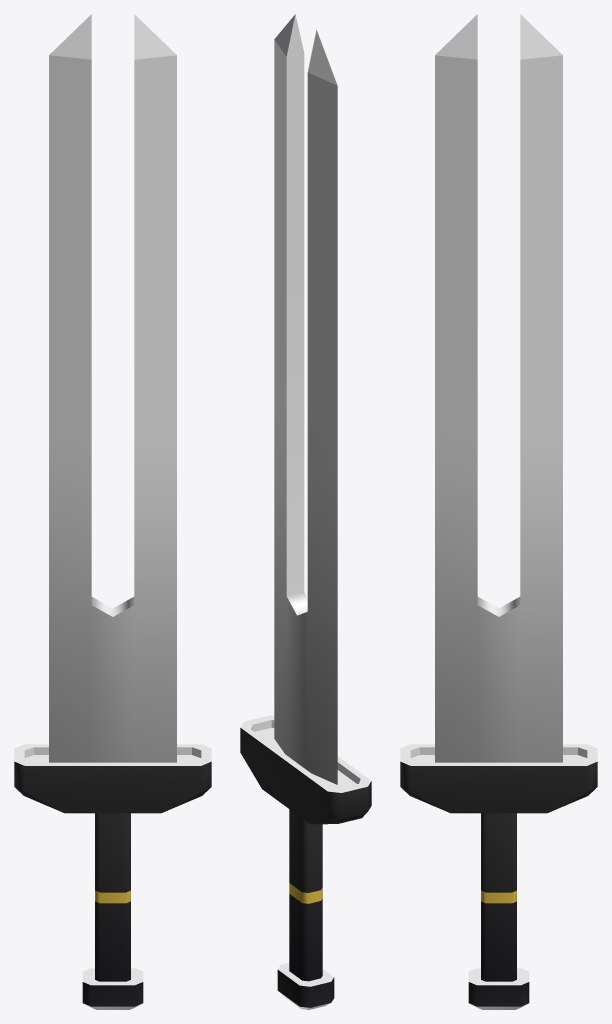
File: Weapon_split_sword.fbx
3 views of the same model, side by side, from view 1: azimuth 90°, elevation 25°; view 2: azimuth 210°, elevation 25°; view 3: azimuth 270°, elevation 25° (orthographic).
Visible parts, largest first — view 1: W_SS_1; view 2: W_SS_1; view 3: W_SS_1.
Part boxes in pixels (x1,y1,x2,y2): W_SS_1: [14, 14, 211, 1009]; W_SS_1: [240, 14, 371, 1009]; W_SS_1: [400, 14, 597, 1009].
Size of the model in its own units: 4.98 by 106 by 19.18.
